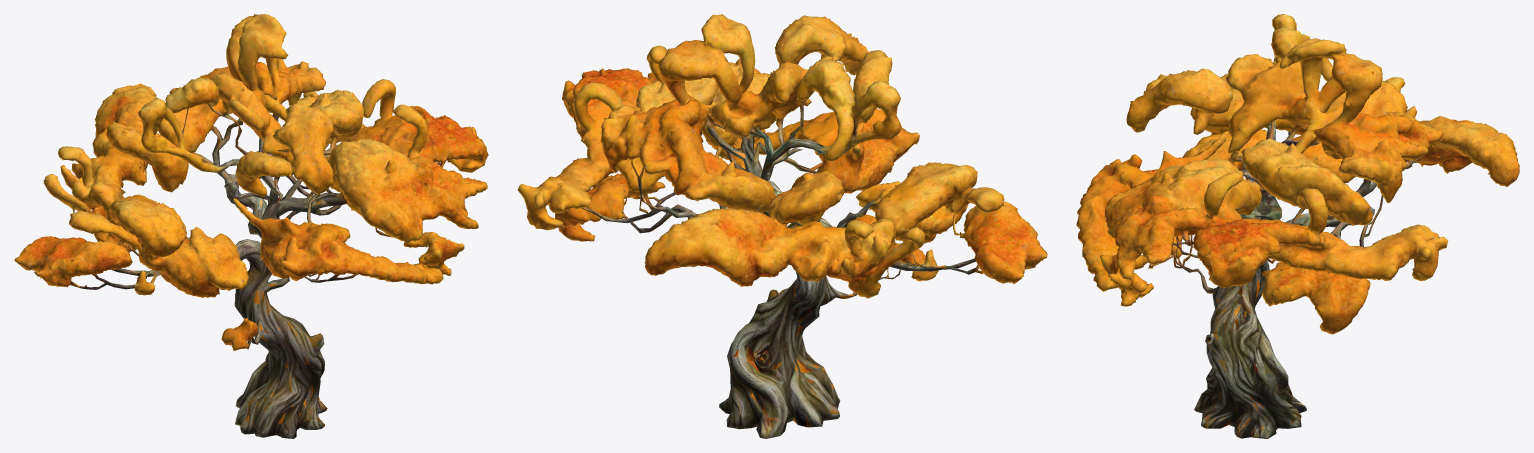
Rendered from Ember_Tree.glb.
The picture shows the model from 3 angles, left to right: view 1: azimuth 30°, elevation 25°; view 2: azimuth 150°, elevation 25°; view 3: azimuth 270°, elevation 25°; orthographic projection. The views are drawn at different scales.
Visible parts, largest first — view 1: Ember_Tree; view 2: Ember_Tree; view 3: Ember_Tree.
Part boxes in pixels (box(x1,y1,x2,y2)): Ember_Tree: box(14, 14, 488, 438); Ember_Tree: box(517, 14, 1047, 438); Ember_Tree: box(1076, 14, 1519, 438).
Size of the model in its own units: 1.89 by 1.54 by 1.6.
1 material, 1 textured.
